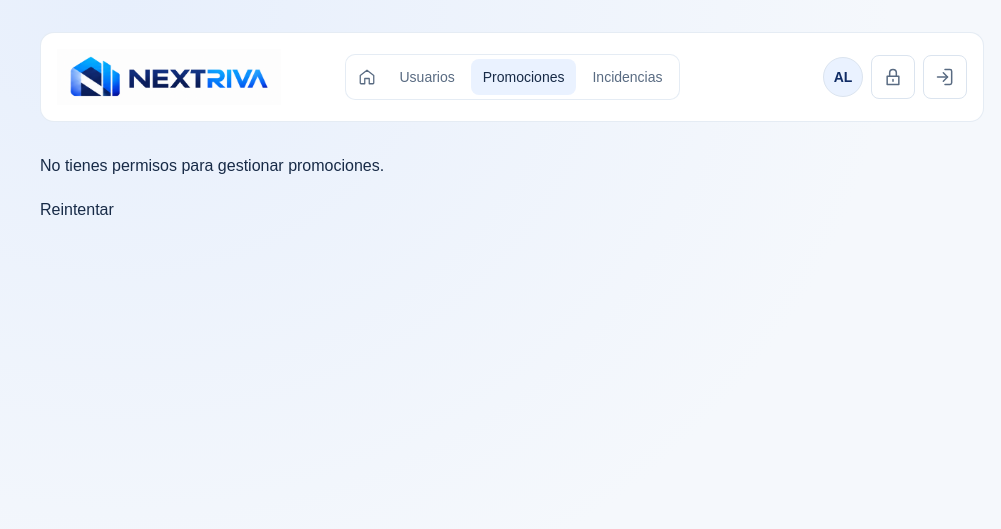
it: shows a safe 403 error and retries
Step 1. Click the button "Reintentar" → (77, 210), box [40, 198, 114, 222]
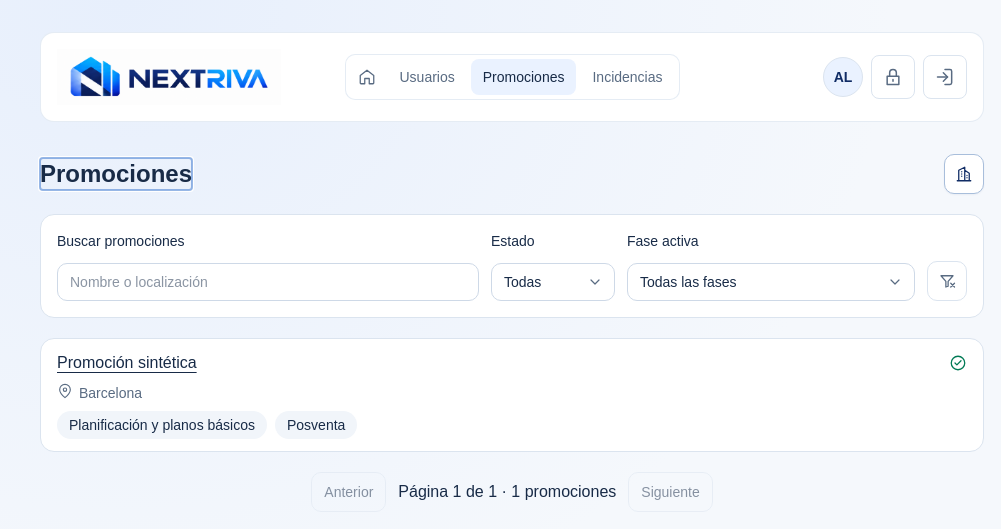
Check: the link "Promoción sintética" is shown, box [57, 354, 197, 371]
